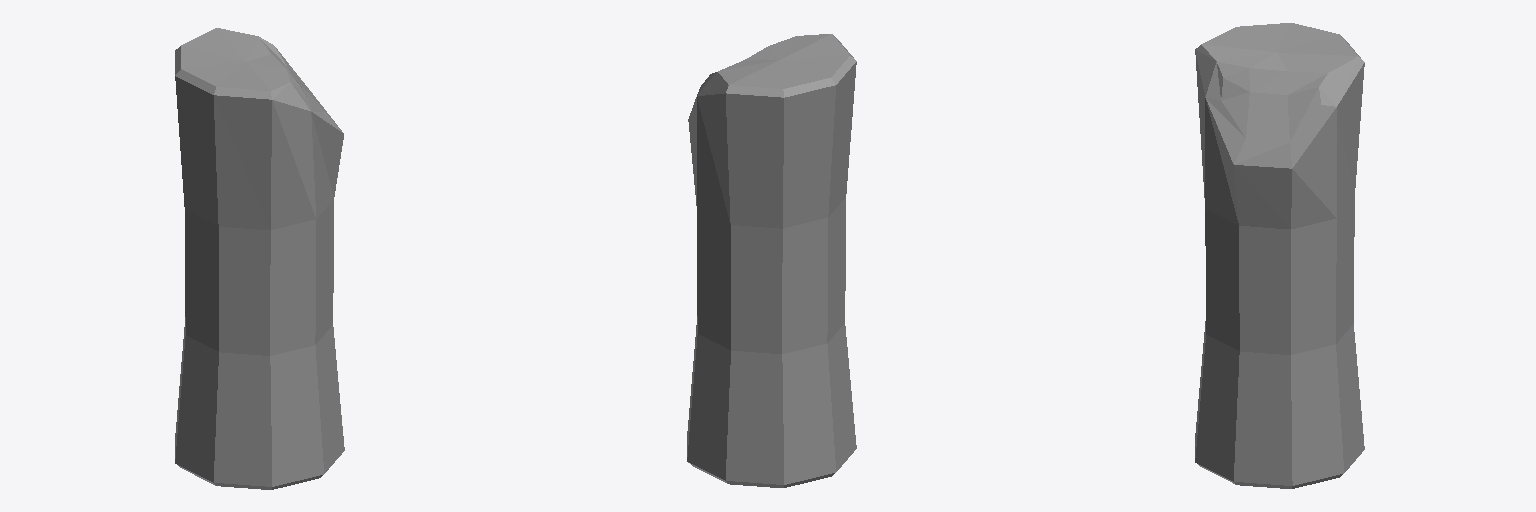
Rendered from Chalk.obj.
3 renders of one model, left to right at view 1: azimuth 30°, elevation 25°; view 2: azimuth 150°, elevation 25°; view 3: azimuth 270°, elevation 25°, orthographic.
Visible parts, largest first — view 1: Cylinder_Cylinder.001; view 2: Cylinder_Cylinder.001; view 3: Cylinder_Cylinder.001.
Part boxes in pixels (x1,y1,x2,y2): Cylinder_Cylinder.001: (175,28,344,489); Cylinder_Cylinder.001: (687,34,856,487); Cylinder_Cylinder.001: (1195,23,1364,488).
Bounding box in the file's own units: 0.5932 × 1.52 × 0.5842.